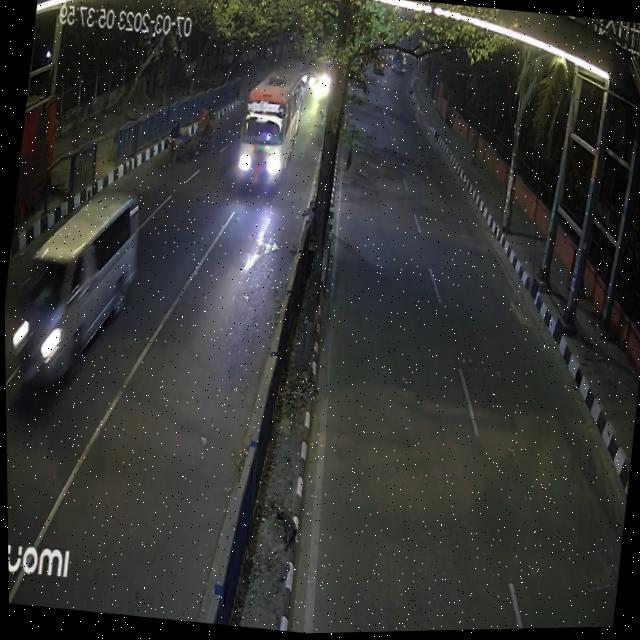rikshaw: (189, 101, 218, 165)
